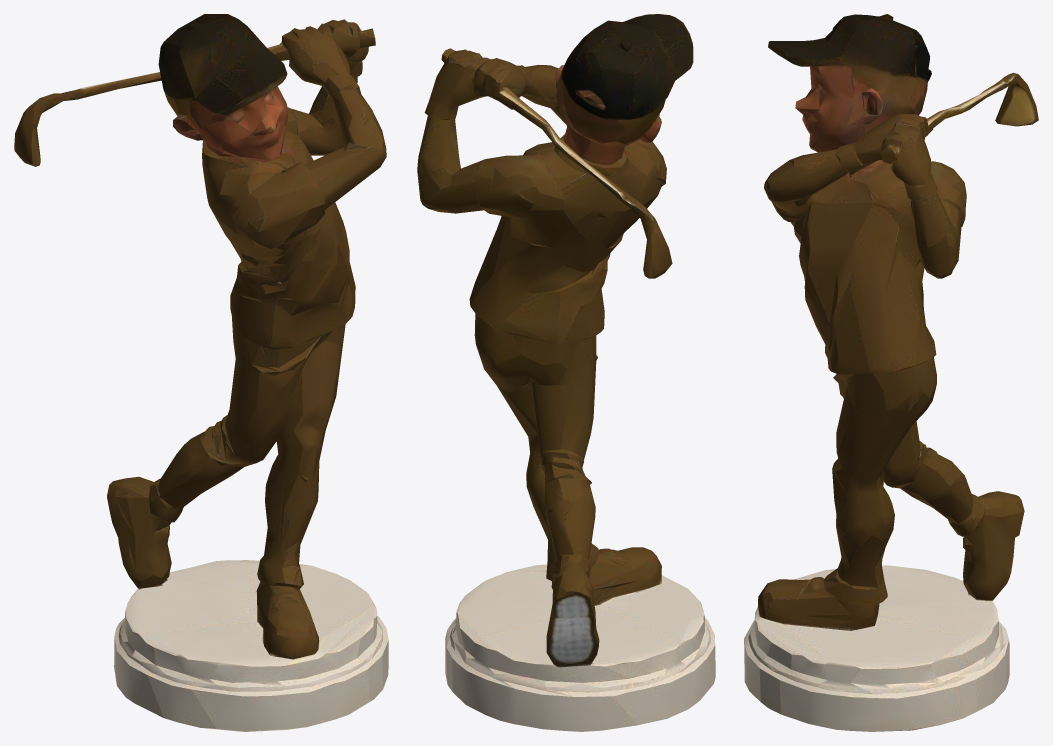
File: statue.glb
The picture shows the model from 3 angles, left to right: view 1: azimuth 30°, elevation 25°; view 2: azimuth 150°, elevation 25°; view 3: azimuth 270°, elevation 25°; orthographic projection. The views are drawn at different scales.
Bounding box in the file's own units: 0.868 × 1.9 × 0.7875.
Materials: 1 (1 with a texture image).
